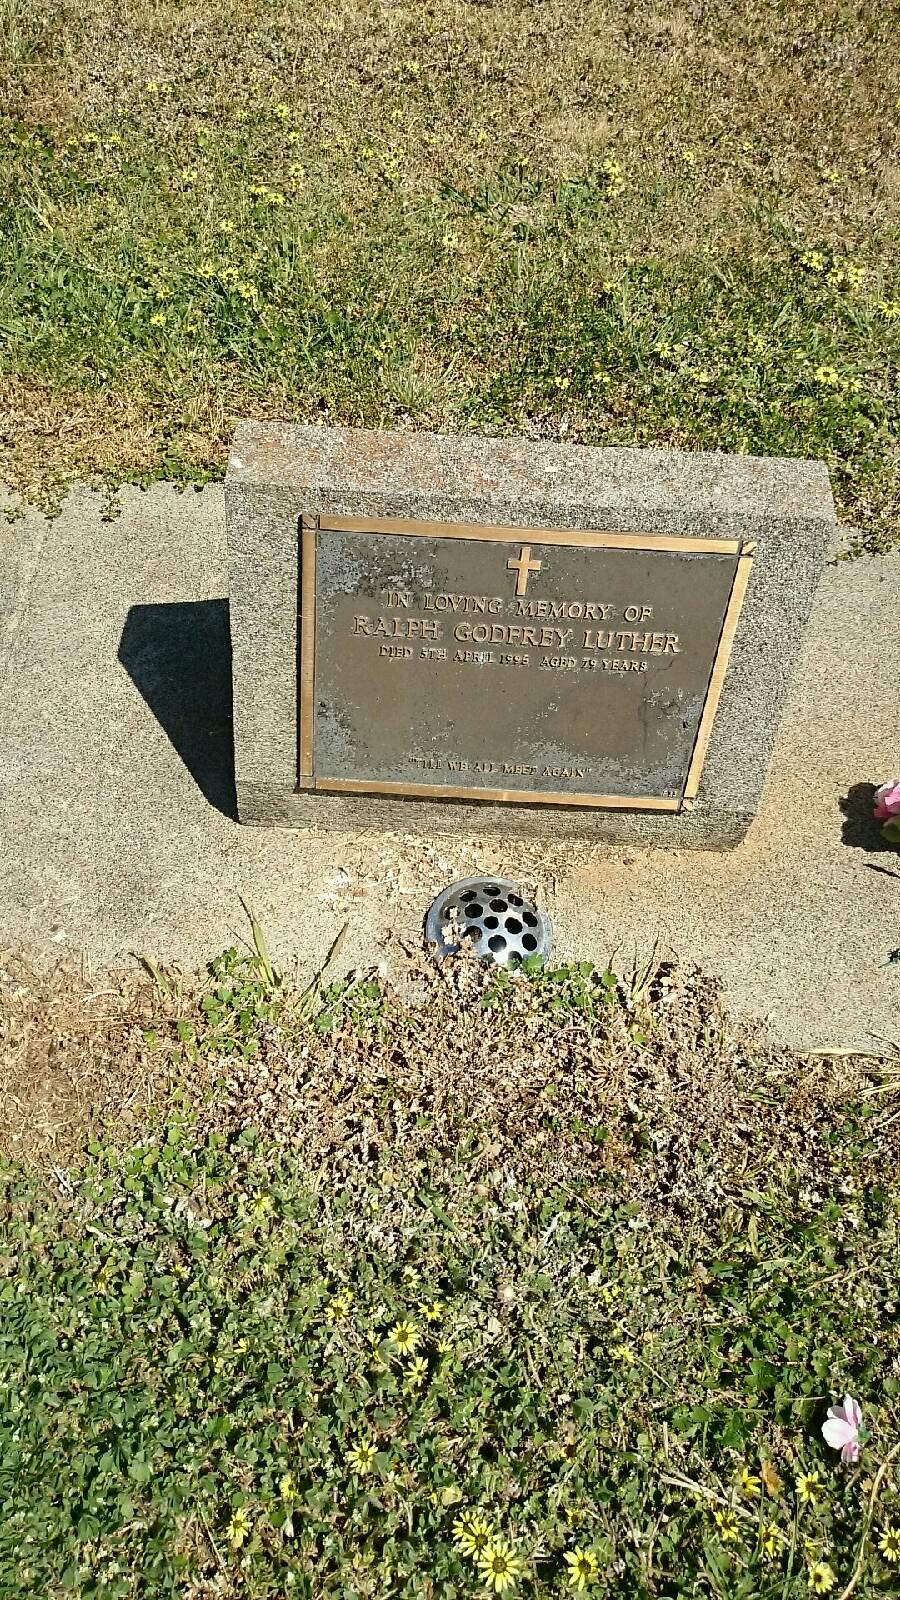upright: (27, 340, 876, 1027)
